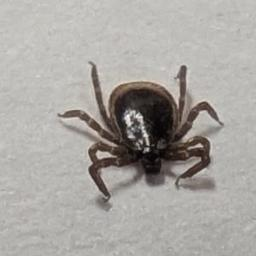Ixodes scapularis: (56, 62, 227, 202)
